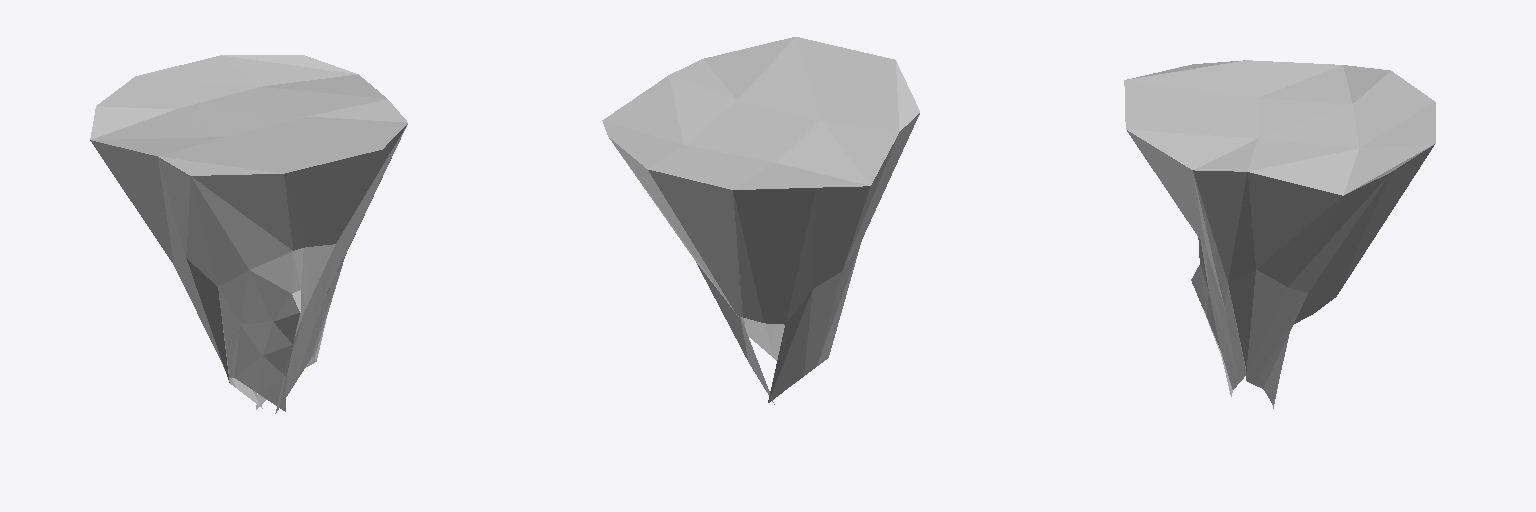
The model's file is stone0015.obj.
The picture shows the model from 3 angles: view 1: azimuth 30°, elevation 25°; view 2: azimuth 150°, elevation 25°; view 3: azimuth 270°, elevation 25°; orthographic projection.
Parts seen in each view (by area): view 1: Landscape.002; view 2: Landscape.002; view 3: Landscape.002.
Part boxes in pixels (bbox=[...]): Landscape.002: bbox=[90, 55, 407, 413]; Landscape.002: bbox=[602, 37, 919, 404]; Landscape.002: bbox=[1124, 60, 1435, 408].
Size of the model in its own units: 0.4745 by 0.5111 by 0.4761.